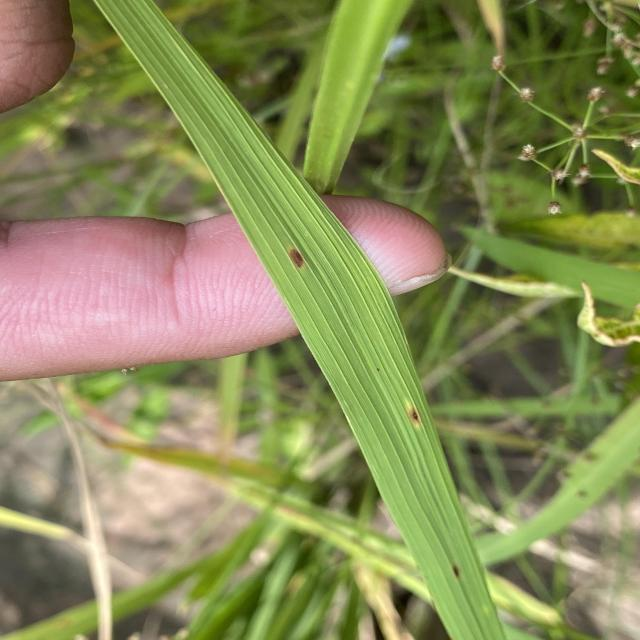Dom nau: (287, 246, 309, 271), (408, 406, 422, 426), (451, 564, 462, 580)
